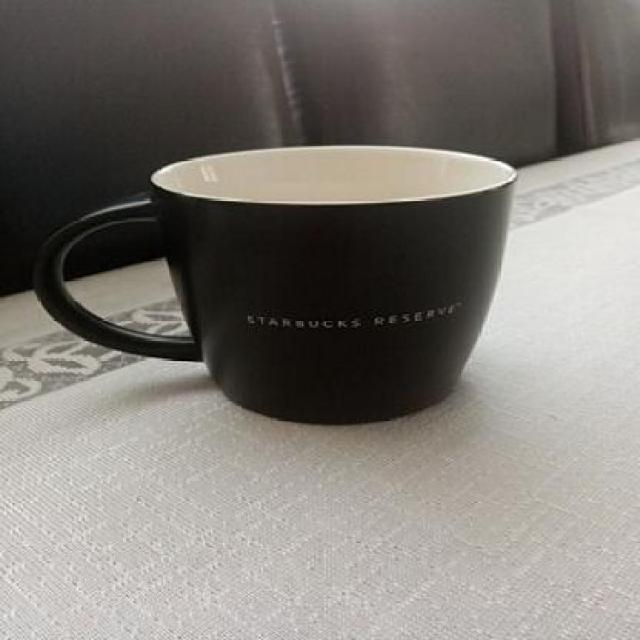taza: (32, 145, 521, 428)
